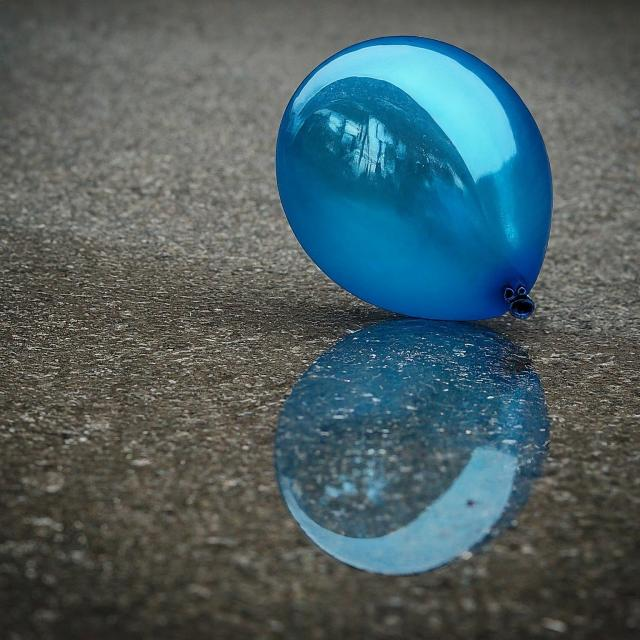blue: (276, 36, 553, 323)
